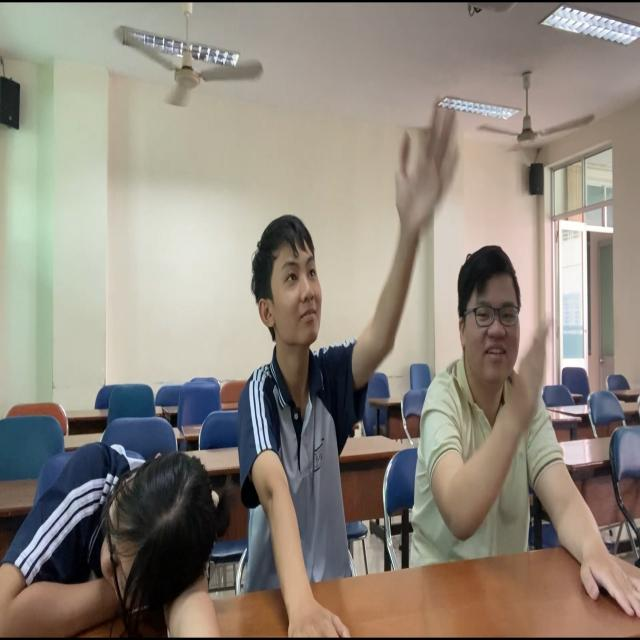raise_hand: (234, 102, 429, 583), (432, 241, 609, 587)
sleep: (4, 411, 212, 640)
